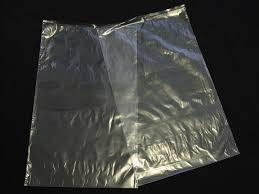Plastic: (96, 14, 244, 186), (24, 11, 142, 191)
